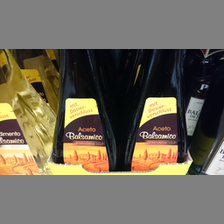vinegar: (48, 49, 117, 169), (123, 49, 187, 174), (1, 49, 45, 174)
